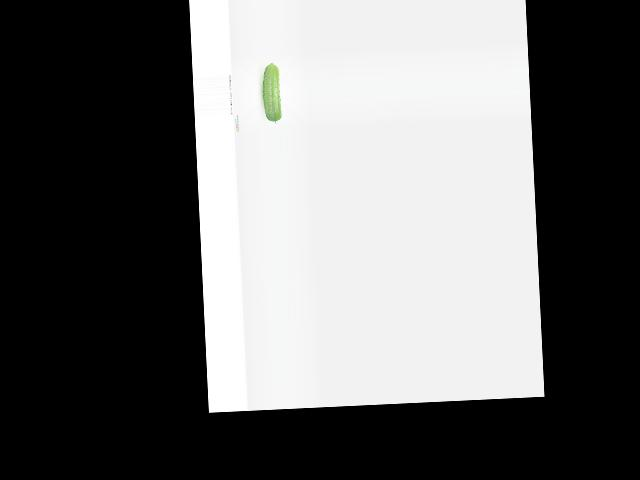cucumber: (261, 61, 282, 123)
